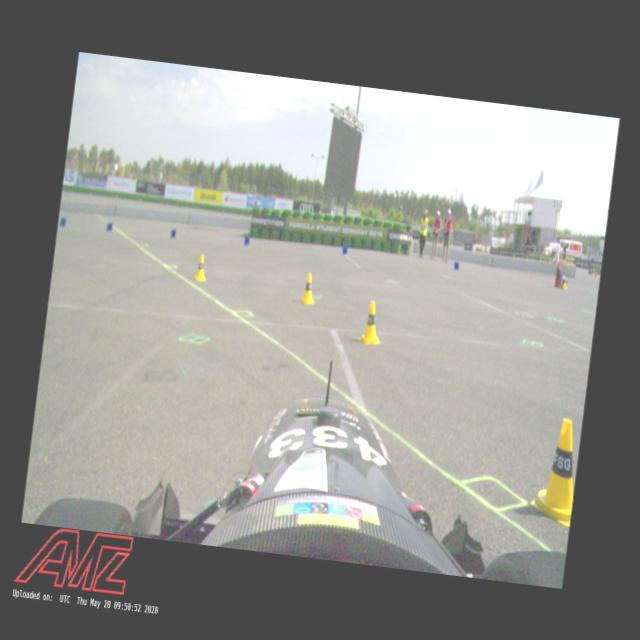blue_cone: (58, 216, 66, 228), (340, 245, 348, 255), (170, 228, 177, 239), (243, 235, 250, 246), (106, 222, 112, 232), (453, 260, 459, 270)
yellow_cone: (529, 414, 582, 526), (358, 298, 383, 346), (300, 272, 317, 304), (194, 253, 208, 282), (594, 270, 598, 280), (592, 268, 594, 276)
